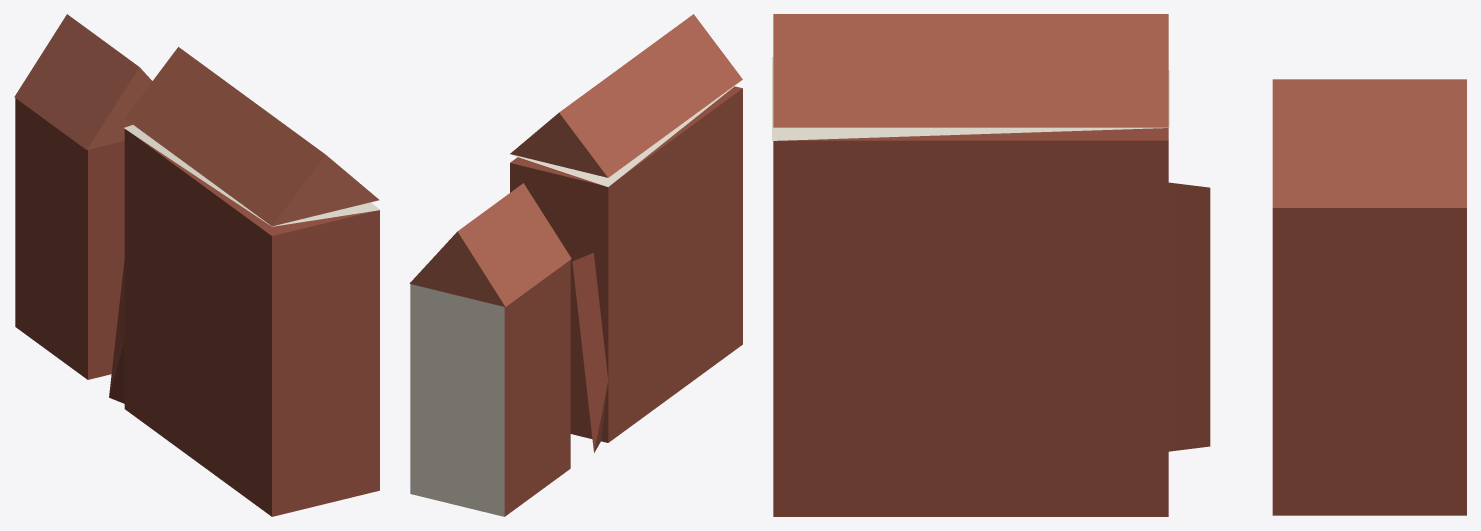
Rendered from anne-frank-house.lod2.glb.
3 renders of one model, left to right at view 1: azimuth 30°, elevation 25°; view 2: azimuth 150°, elevation 25°; view 3: azimuth 270°, elevation 25°, orthographic. The views are drawn at different scales.
Parts seen in each view (by area): view 1: lod2; view 2: lod2; view 3: lod2.
Part boxes in pixels (bbox=[...]): lod2: bbox=[14, 14, 379, 516]; lod2: bbox=[409, 14, 743, 516]; lod2: bbox=[772, 14, 1466, 516].
Size of the model in its own units: 5.83 by 17.9 by 24.1.
